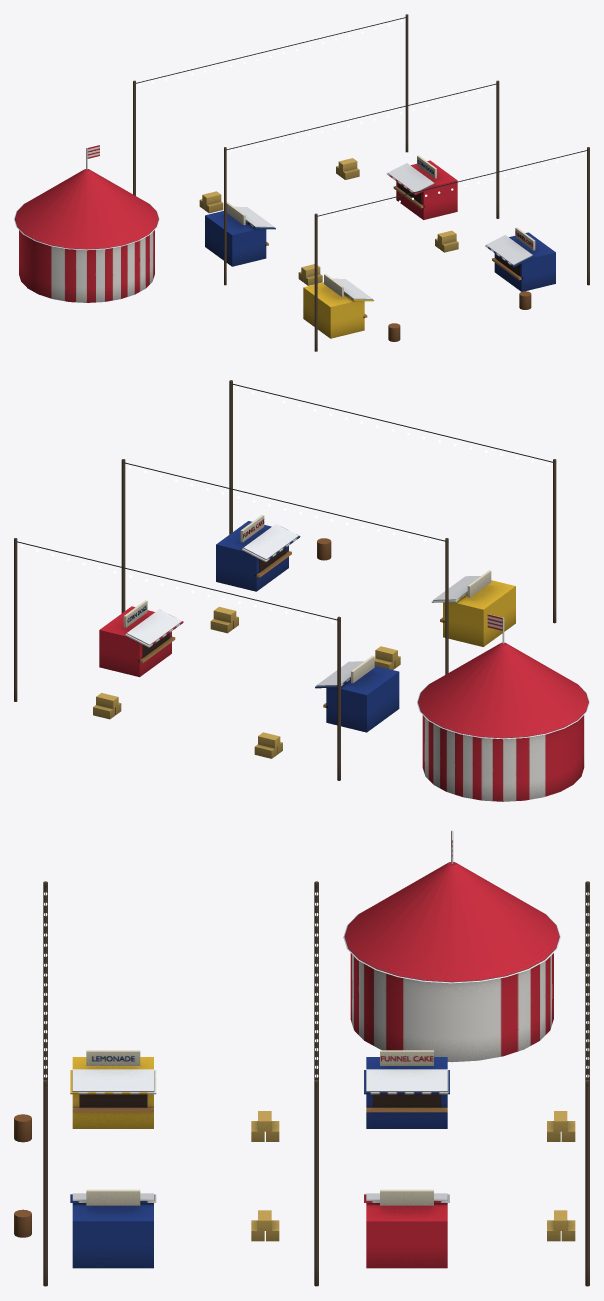
The model's file is feria_puestos_b.glb.
The picture shows the model from 3 angles, top to bottom: view 1: azimuth 30°, elevation 25°; view 2: azimuth 150°, elevation 25°; view 3: azimuth 270°, elevation 25°; orthographic projection. The views are drawn at different scales.
Parts seen in each view (by area): view 1: feria_puestos_b; view 2: feria_puestos_b; view 3: feria_puestos_b.
Part boxes in pixels (x1,y1,x2,y2): feria_puestos_b: [14, 14, 589, 351]; feria_puestos_b: [14, 380, 589, 801]; feria_puestos_b: [14, 830, 589, 1286].
Bounding box in the file's own units: 32.82 × 10 × 25.5.
Materials: 1 (1 with a texture image).
